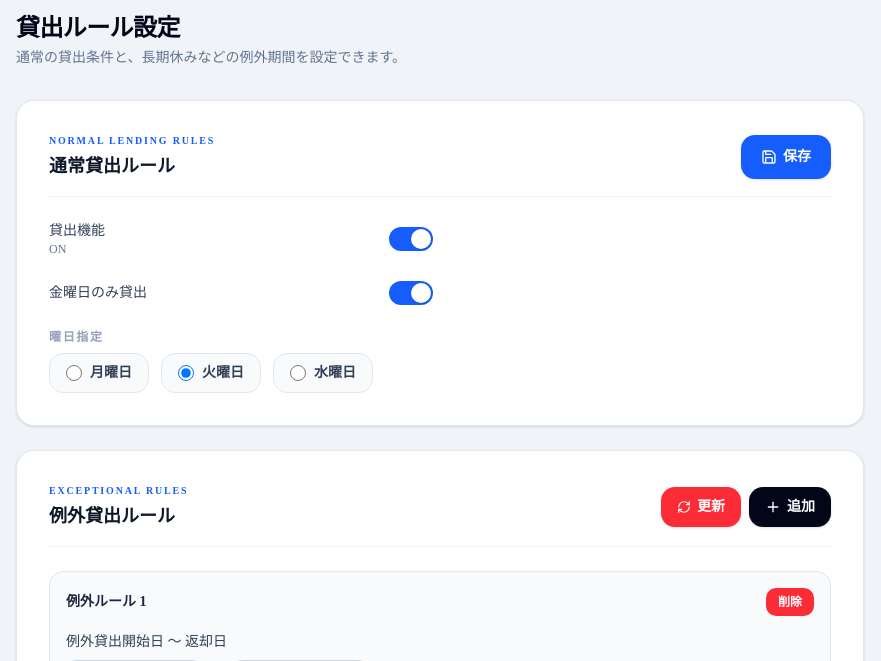
Scenario: LoanSettingsPage › 例外ルールを追加・削除できる
Expected: the text "例外ルール 1" is shown, top-left (66, 592), bottom-right (146, 612)
Click the button "追加". click: (790,506)
box: top-left (749, 486), bottom-right (831, 526)
(page scrolled)
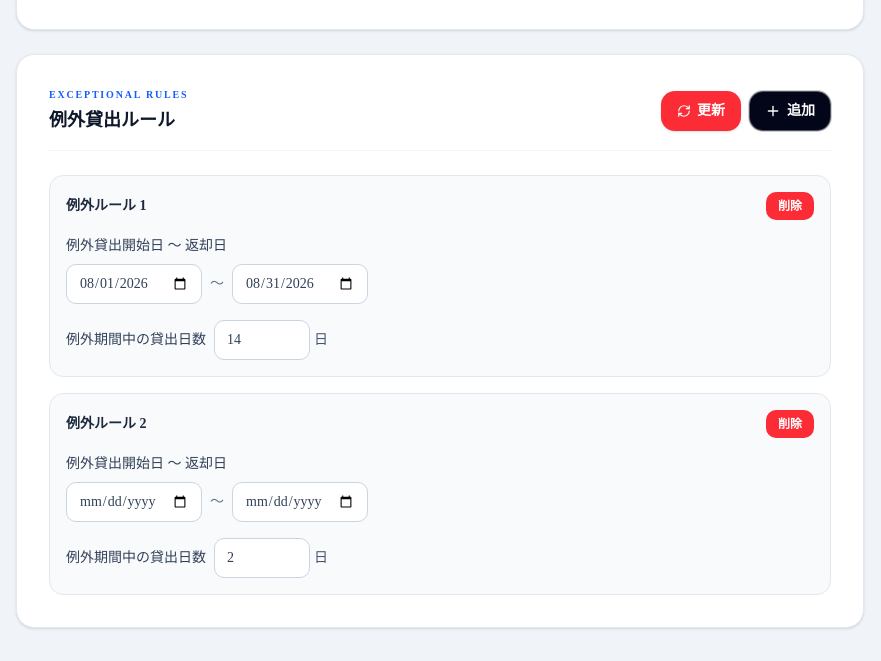
Expected: the text "例外ルール 2" is shown, top-left (66, 414), bottom-right (146, 434)
Expected: the number of number fields is 2, top-left (214, 320), bottom-right (310, 360); top-left (214, 538), bottom-right (310, 578)
Click the 2nd button "削除". click: (790,424)
box: top-left (766, 410), bottom-right (814, 438)
(page scrolled)
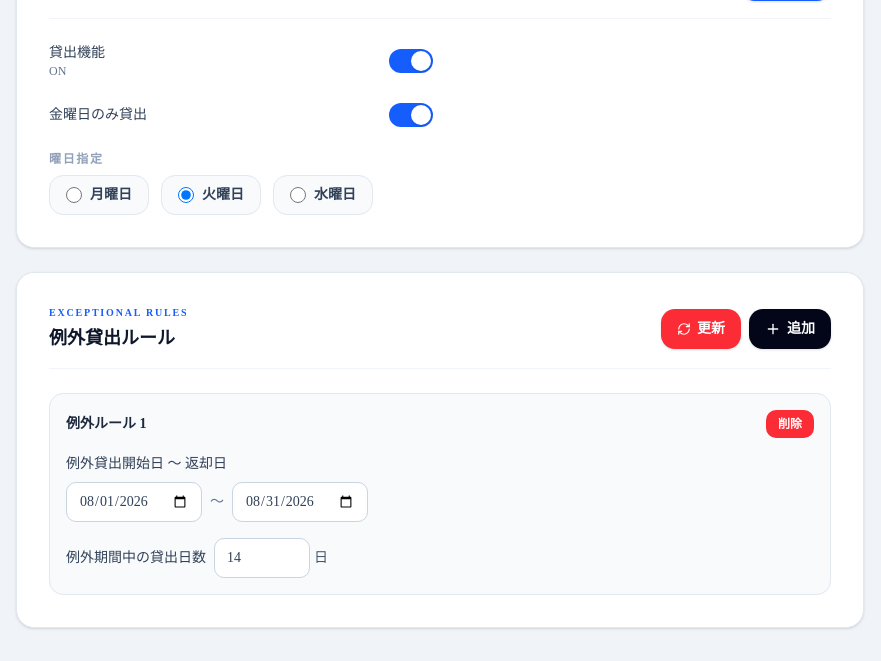
Expected: the text "例外ルール 2" is gone
Expected: the number of number fields is 1, top-left (214, 538), bottom-right (310, 578)
